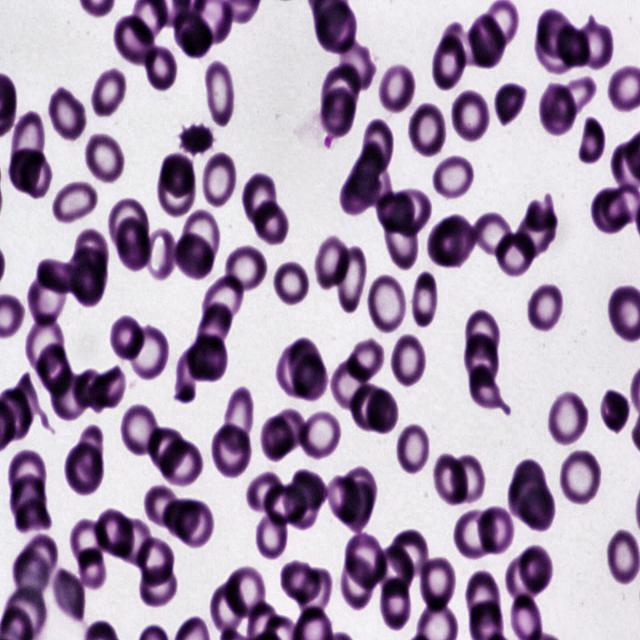red blood cell: (23, 313, 70, 377), (343, 530, 388, 596), (162, 496, 214, 551), (26, 266, 72, 327), (510, 203, 558, 261), (366, 272, 408, 336), (416, 552, 458, 615), (127, 326, 172, 384), (559, 448, 602, 508), (210, 421, 252, 482), (203, 272, 245, 333), (388, 528, 431, 586), (331, 357, 374, 415), (547, 389, 589, 448), (407, 100, 448, 160), (46, 86, 88, 144), (538, 80, 581, 136), (570, 17, 613, 72), (186, 330, 228, 386), (203, 59, 237, 128), (121, 402, 162, 459), (138, 41, 182, 94), (200, 149, 238, 210), (465, 12, 506, 68), (224, 566, 266, 620), (451, 90, 492, 145), (63, 443, 103, 499), (138, 552, 178, 608), (116, 12, 159, 64), (535, 8, 578, 60), (6, 587, 49, 639), (340, 552, 376, 614), (108, 199, 150, 252), (84, 132, 125, 186), (548, 76, 598, 120), (182, 213, 221, 269), (439, 214, 478, 270), (390, 331, 428, 388), (52, 178, 98, 225), (454, 512, 498, 561), (115, 217, 153, 273), (69, 250, 107, 306), (377, 62, 416, 116), (432, 153, 474, 203), (348, 140, 383, 200), (469, 364, 511, 414), (474, 504, 514, 556), (385, 209, 418, 272), (338, 168, 382, 215), (507, 477, 551, 524), (588, 186, 631, 234), (160, 438, 202, 487), (90, 66, 128, 120), (354, 158, 395, 208), (314, 4, 357, 51), (465, 572, 501, 628), (8, 448, 44, 504), (114, 518, 156, 566), (222, 386, 253, 451), (361, 117, 395, 176), (276, 344, 316, 394), (432, 35, 469, 89), (324, 62, 361, 116), (336, 245, 366, 311), (604, 529, 640, 584), (493, 232, 536, 278), (504, 555, 546, 602), (172, 233, 214, 280), (95, 508, 135, 557), (36, 258, 85, 298), (38, 342, 73, 398), (373, 548, 412, 598), (50, 372, 89, 422), (314, 236, 350, 290), (320, 86, 356, 140), (210, 580, 246, 634), (10, 473, 48, 524), (225, 245, 267, 291), (472, 211, 513, 258), (148, 427, 188, 475), (157, 171, 197, 219), (141, 228, 177, 281), (175, 10, 213, 60), (340, 468, 378, 518), (299, 413, 341, 458), (433, 452, 468, 506), (264, 484, 309, 526), (389, 189, 430, 235), (52, 563, 85, 620), (535, 26, 575, 73), (68, 518, 106, 567), (13, 550, 50, 600), (281, 559, 322, 604), (394, 424, 430, 475), (596, 386, 632, 437), (242, 172, 276, 226), (464, 333, 500, 384), (518, 484, 556, 532), (284, 484, 322, 532), (466, 308, 502, 358), (338, 42, 374, 92), (491, 80, 527, 130), (347, 386, 386, 432), (380, 574, 412, 630), (196, 304, 234, 351), (75, 228, 108, 281), (297, 570, 334, 617), (270, 260, 308, 305), (290, 338, 324, 388), (341, 480, 376, 528), (292, 353, 326, 402), (527, 284, 563, 330), (326, 475, 360, 523), (12, 112, 44, 163), (512, 460, 546, 508), (252, 201, 289, 245), (89, 367, 126, 411), (520, 545, 553, 594), (111, 316, 146, 362), (428, 219, 463, 265), (160, 155, 197, 198), (146, 485, 181, 530), (485, 1, 520, 46), (260, 416, 294, 462), (290, 469, 328, 510), (346, 339, 384, 380), (246, 472, 284, 513), (378, 190, 415, 232), (9, 147, 42, 194), (452, 454, 484, 502), (21, 150, 52, 199), (273, 409, 309, 451), (74, 368, 108, 412), (257, 511, 288, 559), (76, 426, 104, 479), (412, 271, 438, 327), (559, 24, 589, 70), (367, 389, 398, 433), (26, 534, 58, 576), (579, 117, 605, 165), (176, 123, 212, 157), (79, 548, 107, 589)
